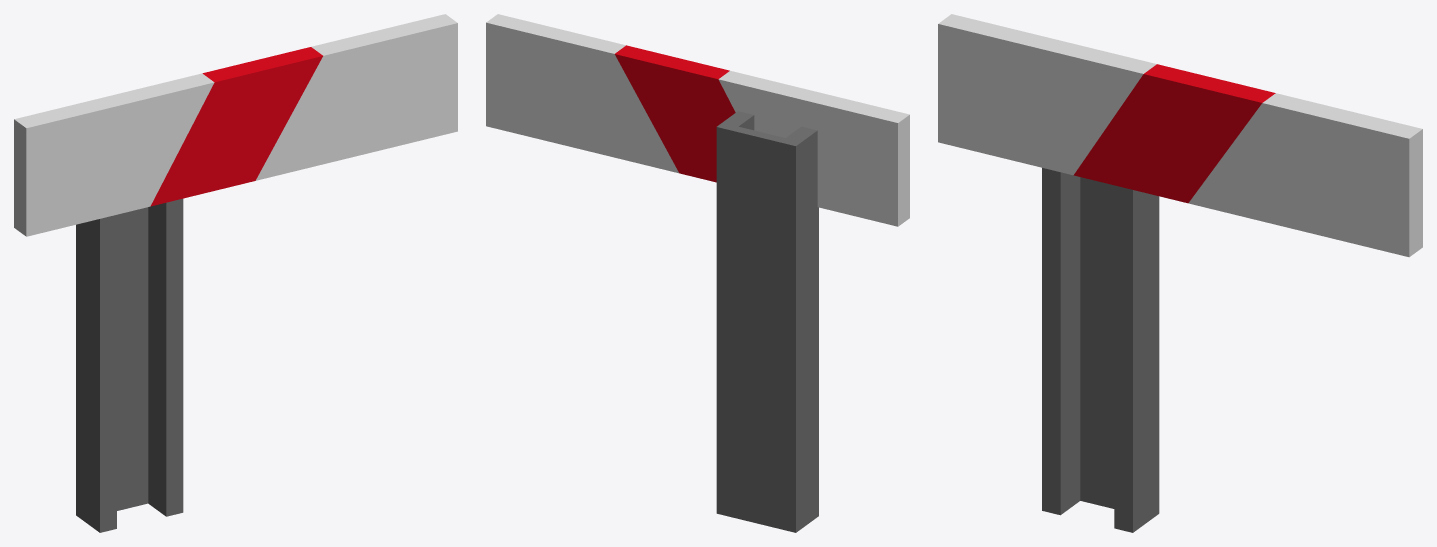
Rendered from SM_Fence.fbx.
3 views of the same model, side by side, from view 1: azimuth 30°, elevation 25°; view 2: azimuth 150°, elevation 25°; view 3: azimuth 330°, elevation 25° (orthographic). The views are drawn at different scales.
Parts seen in each view (by area): view 1: SM_Fence; view 2: SM_Fence; view 3: SM_Fence.
Boxes of the visible parts, left/top/right/bottom form: SM_Fence: left=14, top=14, right=457, bottom=532; SM_Fence: left=486, top=14, right=909, bottom=532; SM_Fence: left=938, top=14, right=1422, bottom=532.
Bounding box in the file's own units: 111 × 106 × 15.53.
